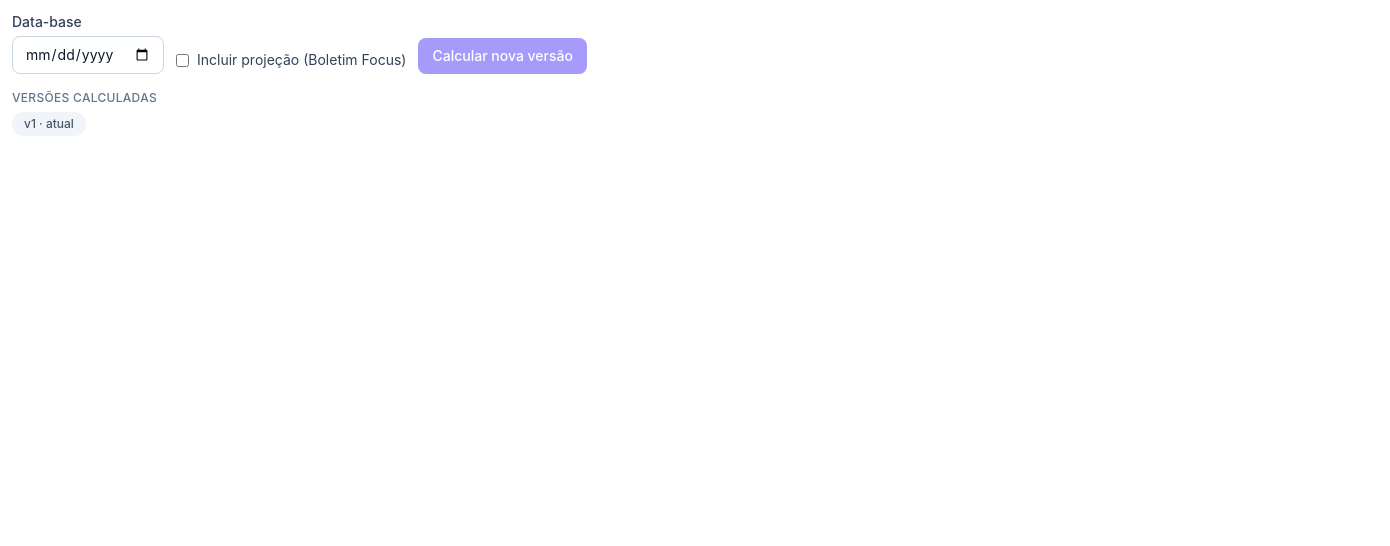
Test: AbaMemoria › marca "Incluir projeção" e envia permitirProjecao no cálculo
Type "2026-11-15" into the date field labelled "Data-base".
click(88, 55); type("2026-11-15")  # box [12,36,164,74]
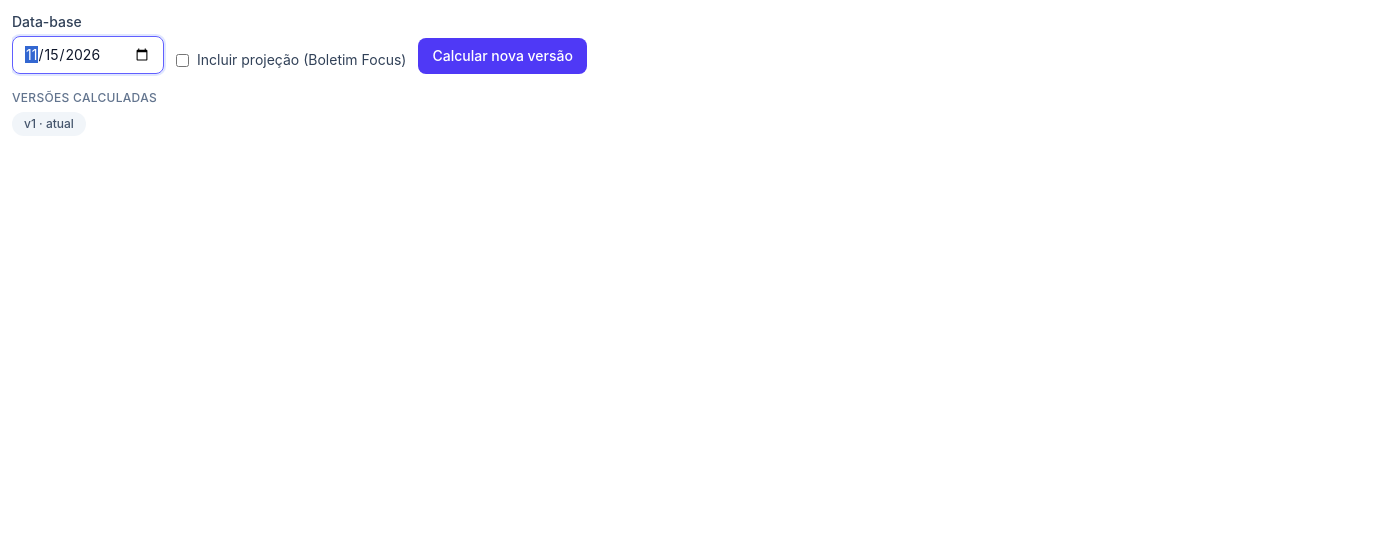
Click the checkbox labelled "Incluir projeção (Boletim Focus)".
click(182, 60)  # box [176,54,189,66]
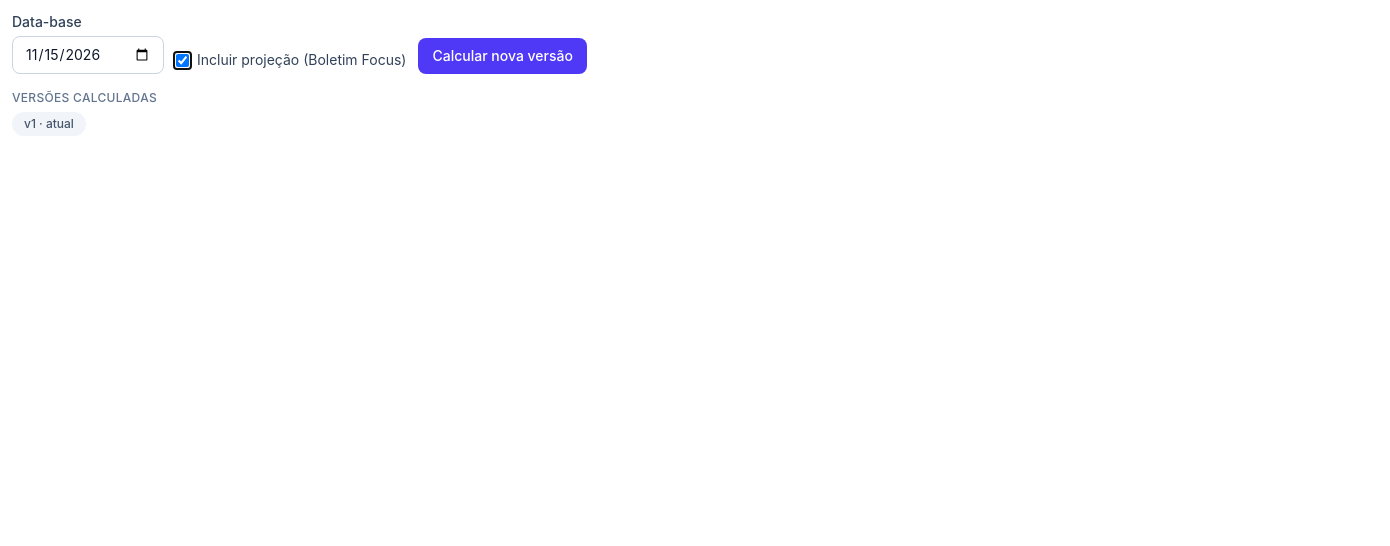
Click the button "Calcular nova versão".
click(503, 56)  # box [418,38,587,74]
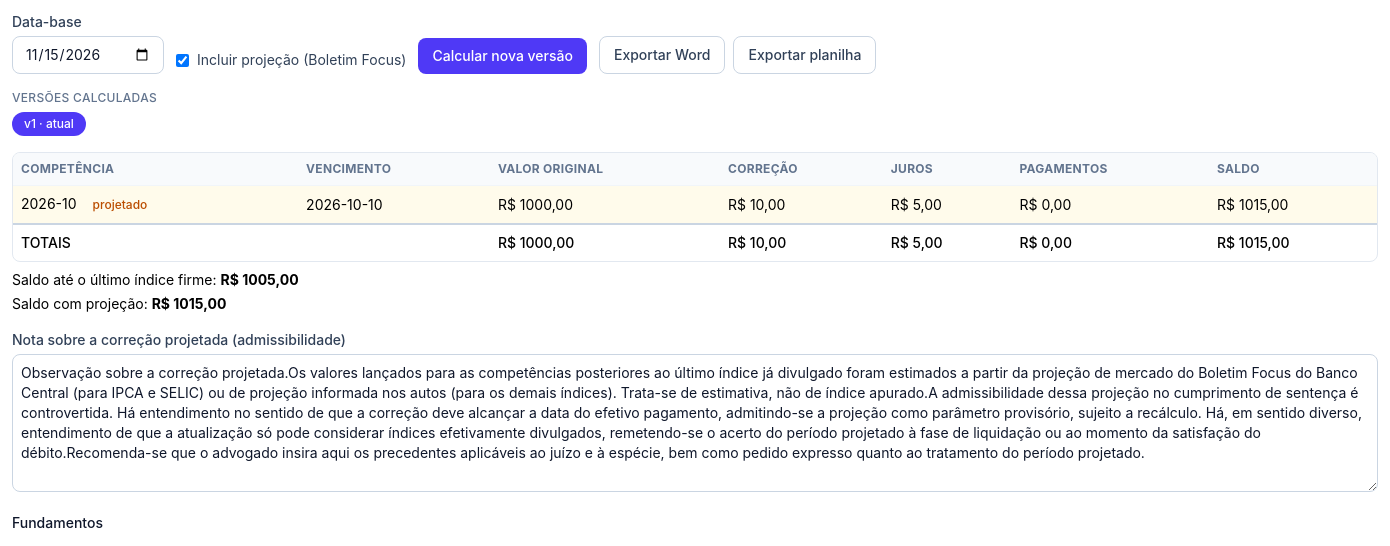
Expected: the text "Saldo até o último índice firme: R$ 1005,00" is shown, [12,271,299,288]
Expected: the text "Saldo com projeção: R$ 1015,00" is shown, [12,295,226,312]
